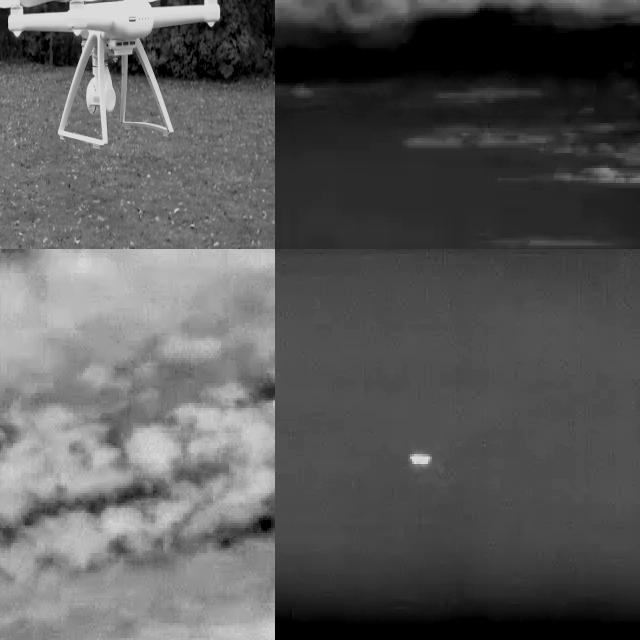0: (249, 388, 275, 423)
1: (397, 445, 441, 478)
drone: (0, 0, 260, 145)
